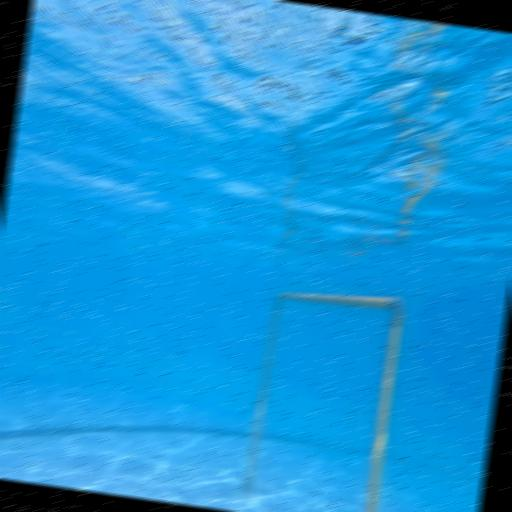gate: (238, 280, 406, 512)
